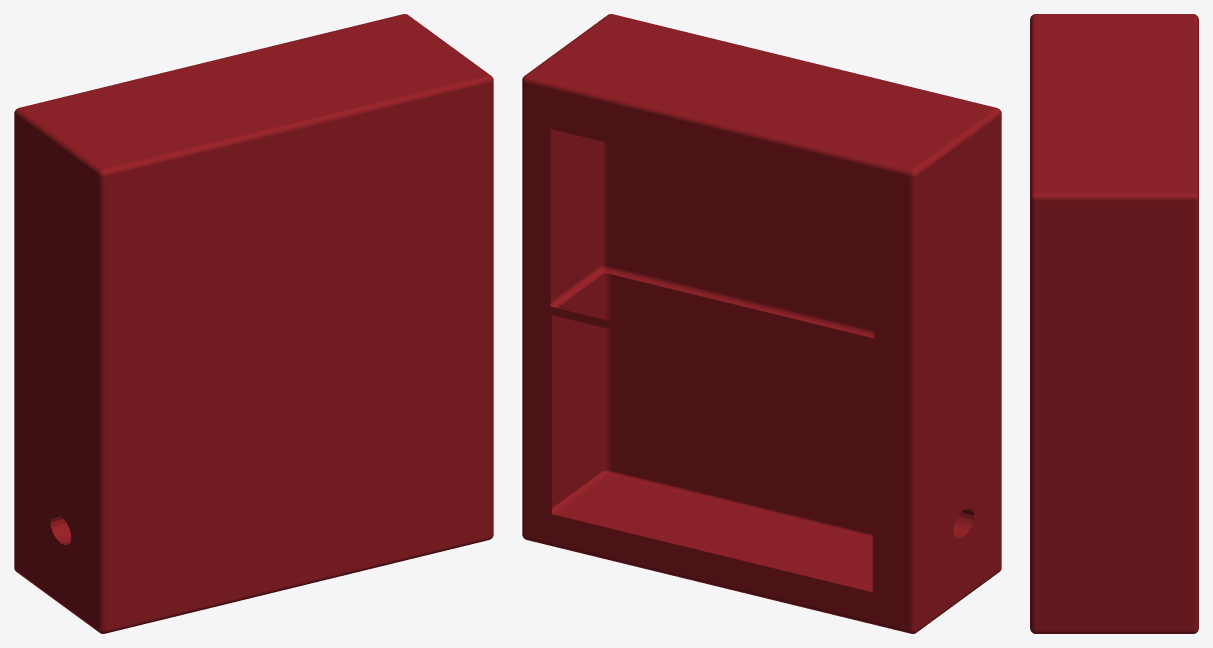
File: tinker.obj
The picture shows the model from 3 angles, left to right: view 1: azimuth 30°, elevation 25°; view 2: azimuth 150°, elevation 25°; view 3: azimuth 270°, elevation 25°; orthographic projection. The views are drawn at different scales.
Parts seen in each view (by area): view 1: obj_0; view 2: obj_0; view 3: obj_0.
Boxes of the visible parts, left/top/right/bottom form: obj_0: left=14, top=14, right=493, bottom=633; obj_0: left=522, top=14, right=1001, bottom=633; obj_0: left=1030, top=14, right=1198, bottom=633.
Size of the model in its own units: 77 by 86.5 by 30.
